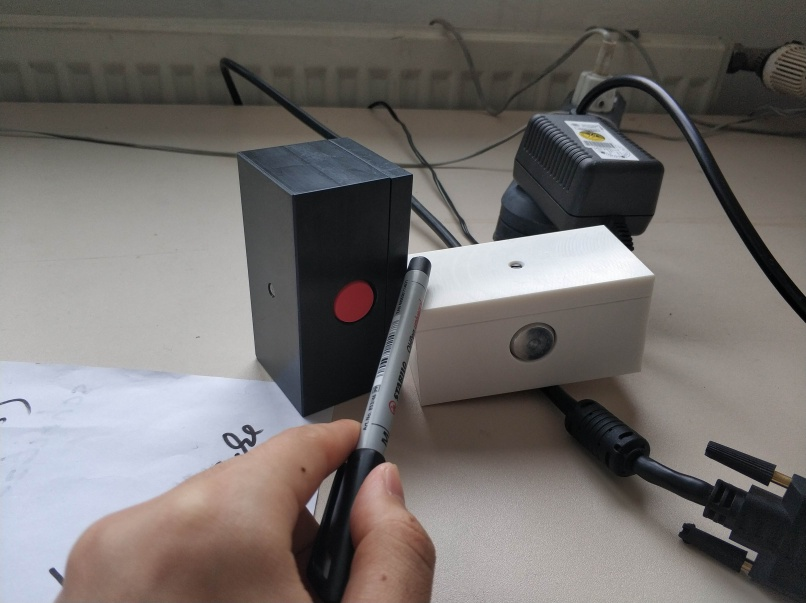black+black+red: (235, 133, 416, 417)
white+white+silver: (407, 222, 660, 407)
